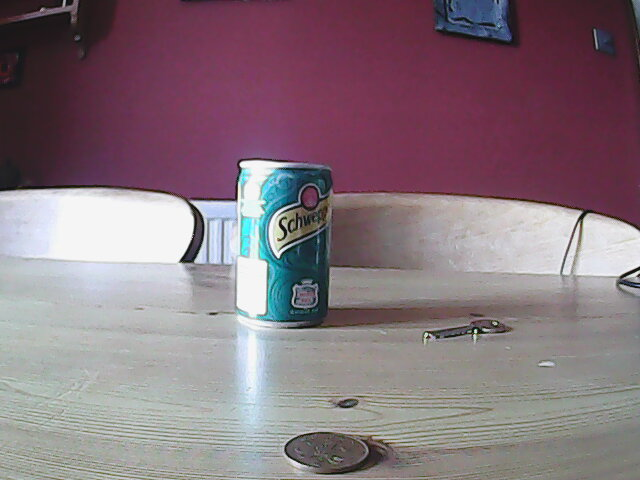Can: (236, 157, 334, 329)
Coin: (278, 428, 373, 477)
Key: (418, 314, 507, 344)
